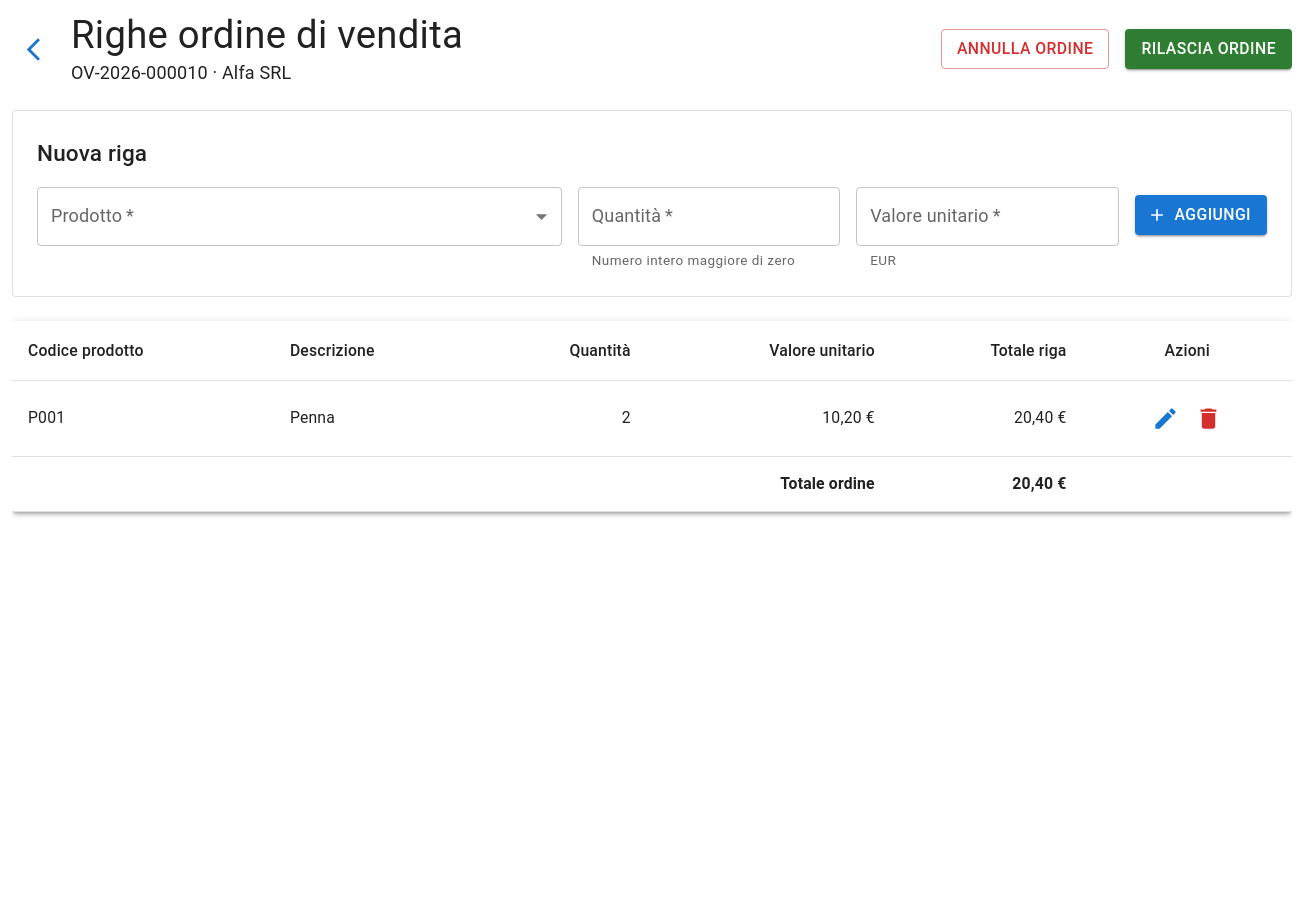
RigheOrdineVendita › modifica una riga esistente
expect the text "P001" is shown: met, box top-left (12, 380), bottom-right (274, 456)
Click the button named "Modifica P001": (1166, 418) top-left (1144, 396), bottom-right (1187, 440)
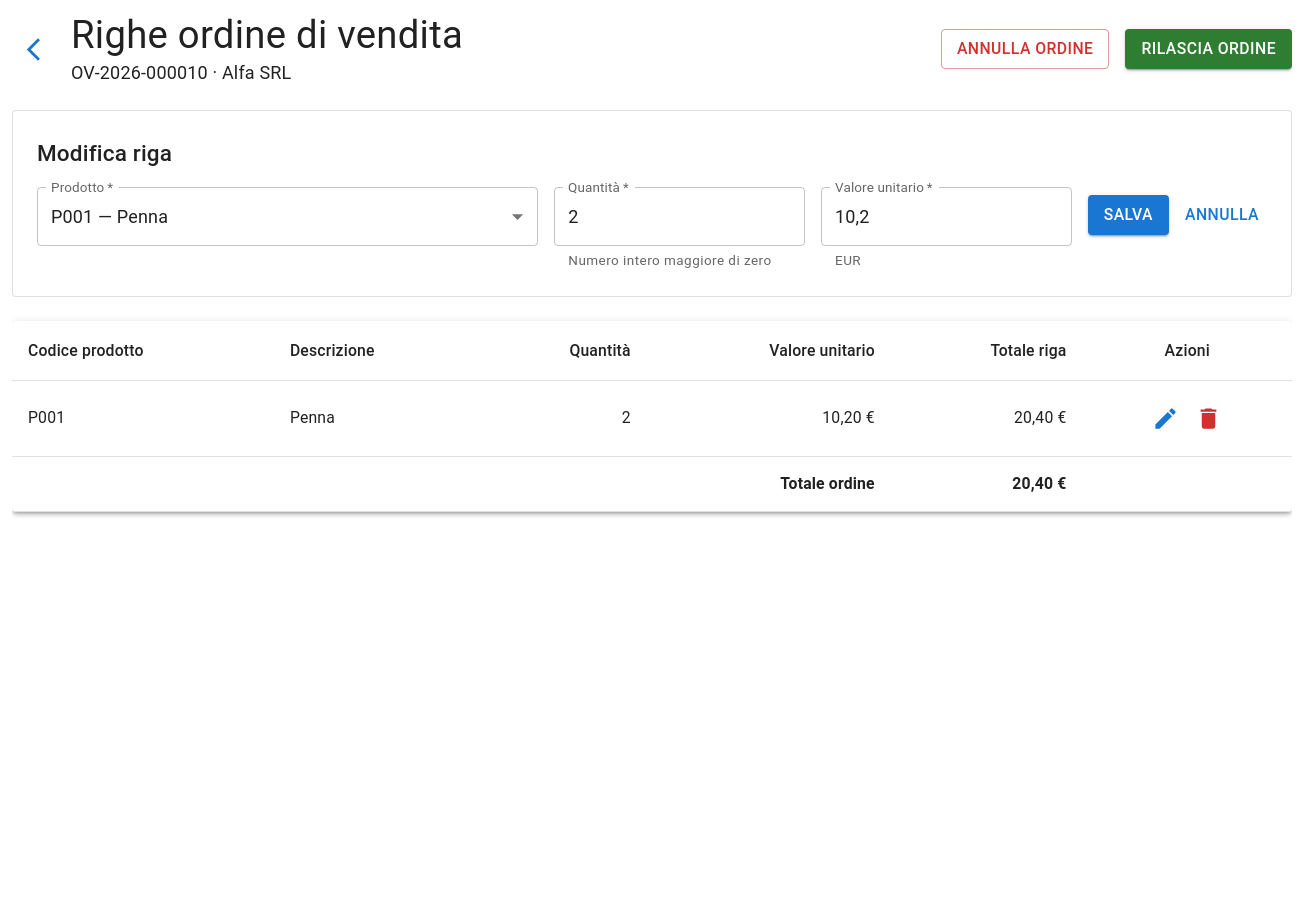
Replace the text in the number field labelled "Quantità" with "3": (680, 217) top-left (554, 187), bottom-right (805, 246)
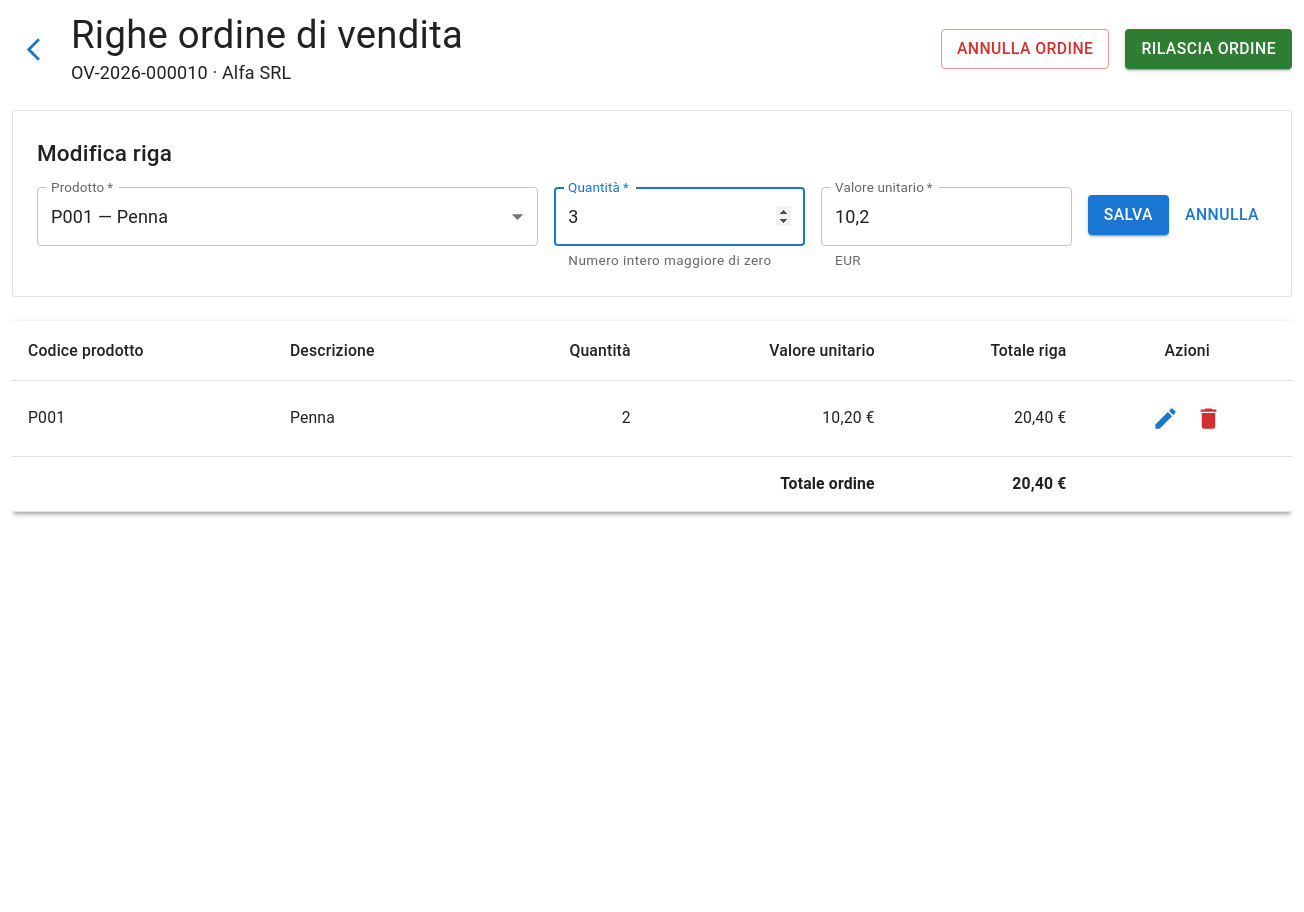
Click the button "Salva": (1128, 215) top-left (1088, 195), bottom-right (1169, 235)
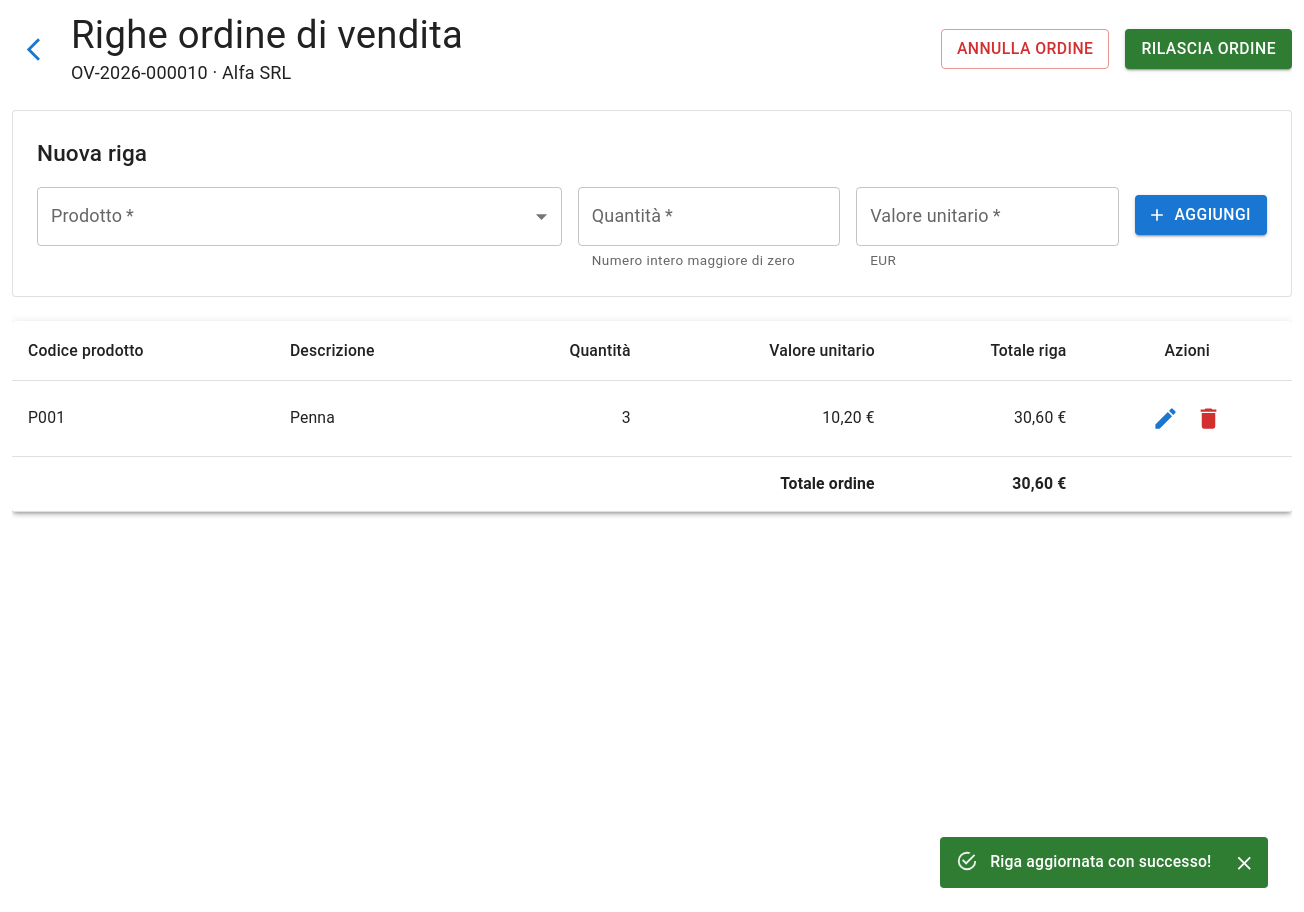
expect the text "Riga aggiornata con successo!" is shown: met, box top-left (990, 852), bottom-right (1212, 872)
